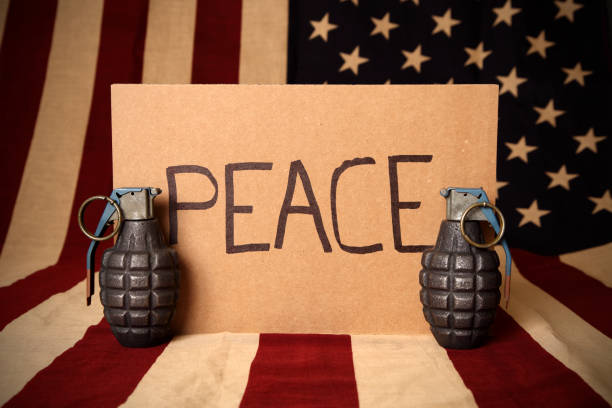e1: (79, 186, 182, 347), (420, 186, 512, 345)
